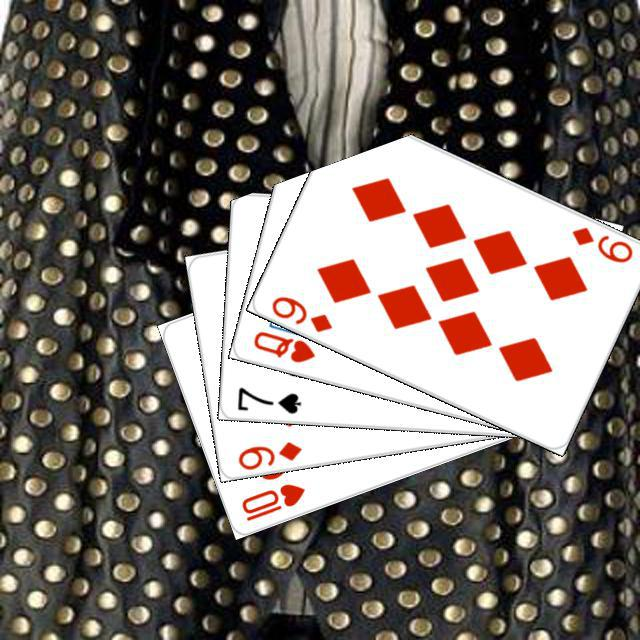10h: (236, 478, 307, 523)
7s: (232, 382, 303, 415)
9d: (266, 291, 334, 335), (566, 222, 635, 265), (233, 437, 304, 471)
Qh: (248, 326, 317, 365)
